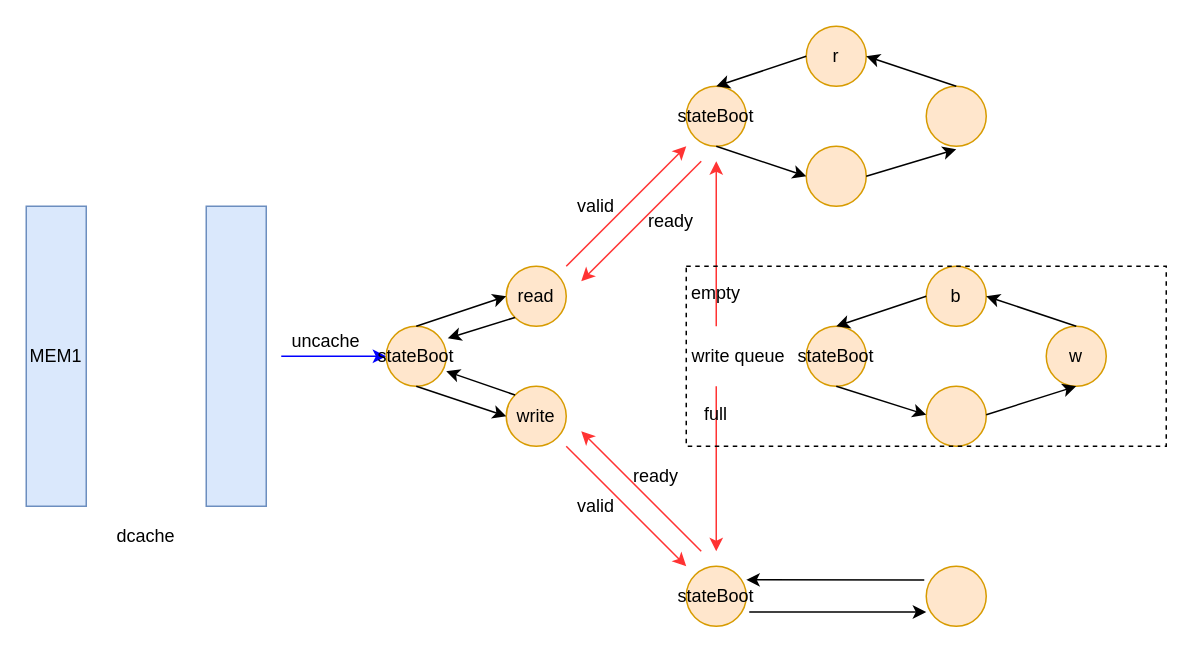
This 1193x653 diagram has some shape labels left out. Each missing label, with the box of its shape:
ar: (925, 85, 986, 146)
aw: (925, 385, 986, 446)
MEM2: (205, 205, 266, 506)
waitForEmpty: (805, 145, 866, 206)
waitForNonFull: (925, 565, 986, 626)
